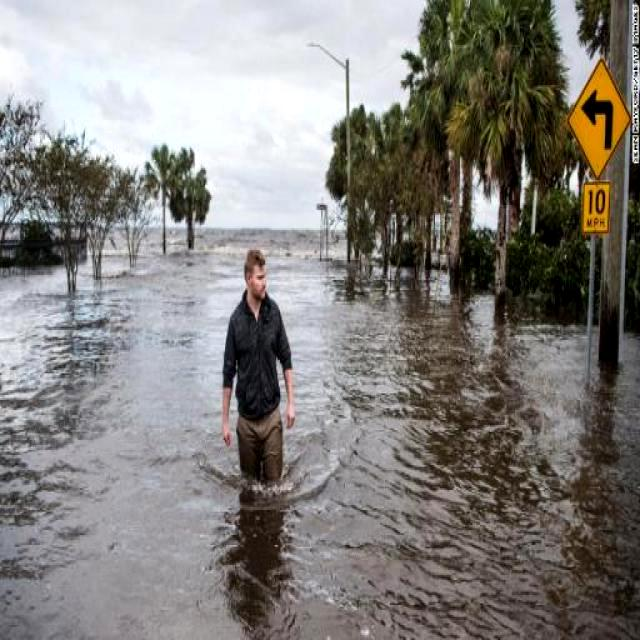civilian: (200, 232, 332, 501)
